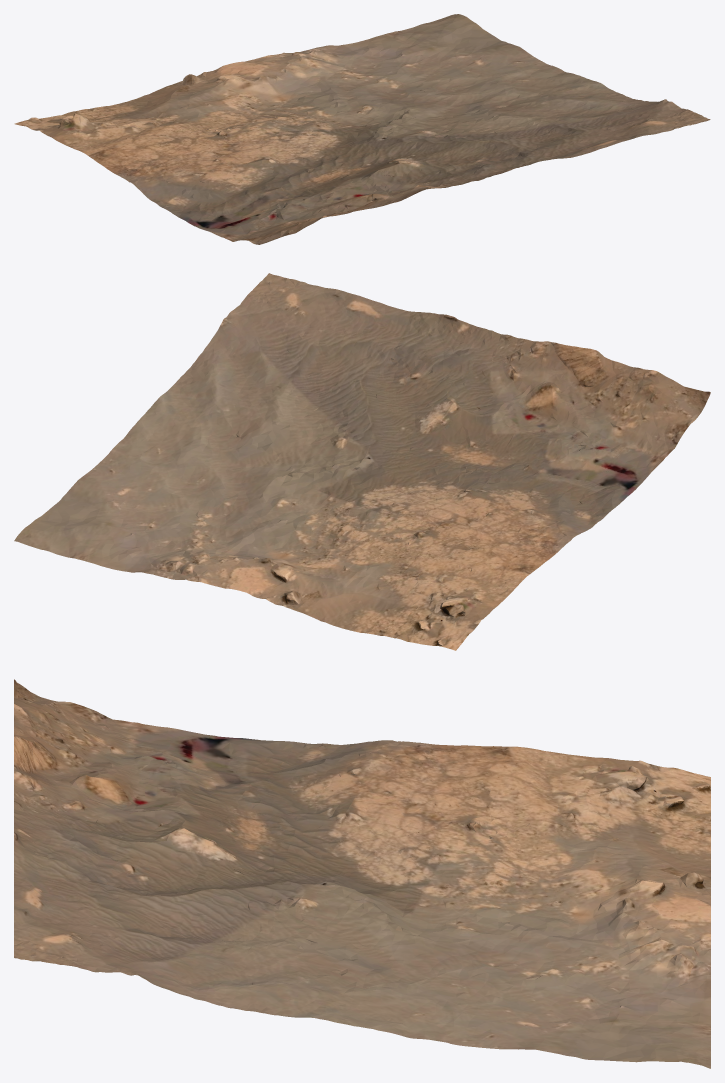
The picture shows the model from 3 angles, top to bottom: view 1: azimuth 30°, elevation 25°; view 2: azimuth 150°, elevation 25°; view 3: azimuth 270°, elevation 25°; orthographic projection. The views are drawn at different scales.
Size of the model in its own units: 8.36 by 1.65 by 8.36.
Materials: 2 (2 with a texture image).
